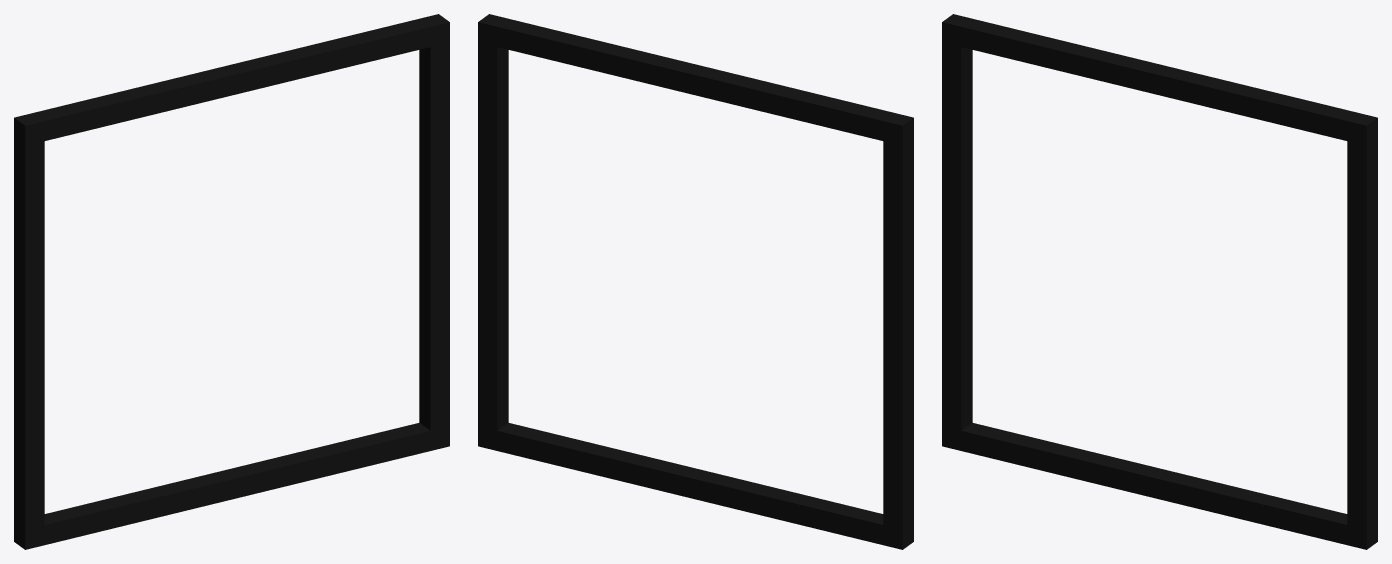
The model's file is mesh_door_frame-0.obj.
3 views of the same model, side by side, from view 1: azimuth 30°, elevation 25°; view 2: azimuth 150°, elevation 25°; view 3: azimuth 330°, elevation 25° (orthographic).
Size of the model in its own units: 4.4 by 4.2 by 0.2.
1 material, 1 textured.
